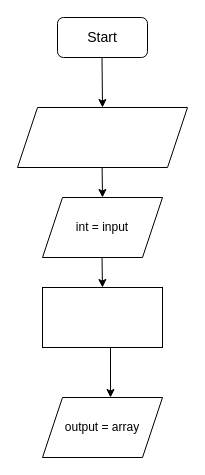
This 205x475 diagram has some shape labels left out. Each missing label, with the box of its shape:
array = conversion of int: (42, 286, 162, 348)
Output: "Please enter an elapsed time in seconds": (16, 106, 188, 168)
